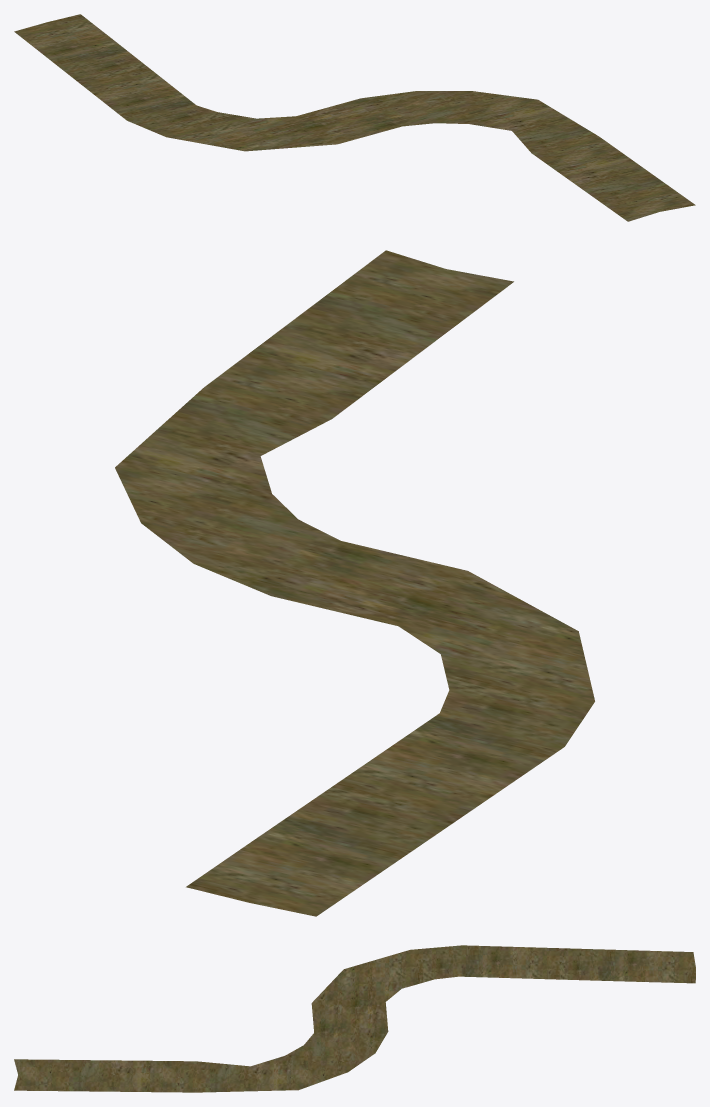
Rendered from CH09_SMAUG_PLAYSURFACE_LAIR109.fbx.
3 renders of one model, top to bottom at view 1: azimuth 30°, elevation 25°; view 2: azimuth 150°, elevation 25°; view 3: azimuth 270°, elevation 25°, orthographic. The views are drawn at different scales.
Visible parts, largest first — view 1: CH09_SMAUG_PLAYSURFACE_LAIR109; view 2: CH09_SMAUG_PLAYSURFACE_LAIR109; view 3: CH09_SMAUG_PLAYSURFACE_LAIR109.
Part boxes in pixels (box(x1,y1,x2,y2)): CH09_SMAUG_PLAYSURFACE_LAIR109: box(14, 14, 695, 221); CH09_SMAUG_PLAYSURFACE_LAIR109: box(115, 250, 594, 916); CH09_SMAUG_PLAYSURFACE_LAIR109: box(14, 945, 695, 1092).
Size of the model in its own units: 192670 by 5970 by 362889.
Materials: 1 (1 with a texture image).
